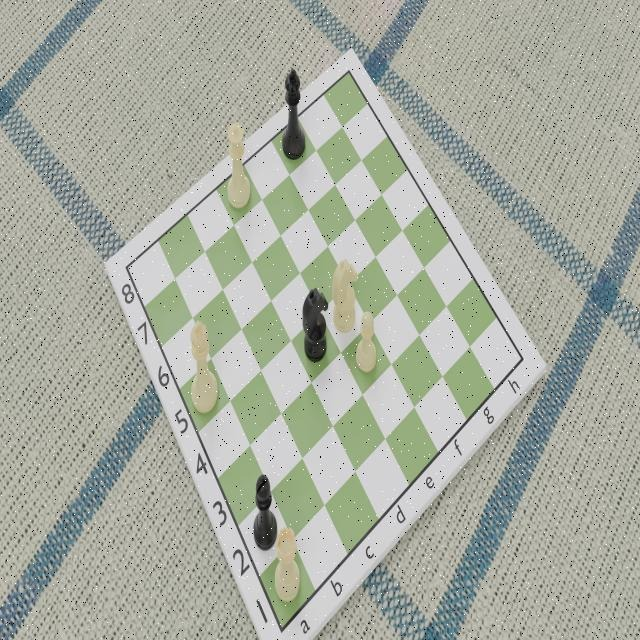black-bishop: (250, 474, 278, 552)
black-king: (279, 67, 307, 166)
black-knight: (298, 283, 329, 365)
white-king: (187, 318, 221, 420)
white-knight: (331, 254, 359, 333)
white-pawn: (354, 306, 382, 379)
white-queen: (222, 118, 253, 217)
white-rook: (272, 528, 303, 608)
